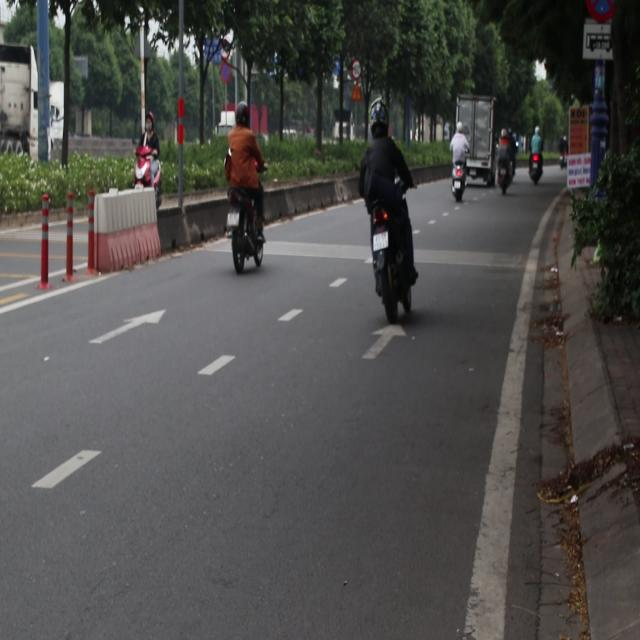motorbike: (368, 199, 419, 349), (219, 187, 269, 273), (128, 141, 165, 203), (494, 142, 516, 196), (450, 162, 466, 206), (530, 146, 538, 196), (560, 132, 567, 174)
truck: (0, 33, 57, 167), (444, 59, 499, 192), (49, 70, 95, 152), (209, 102, 273, 156)
